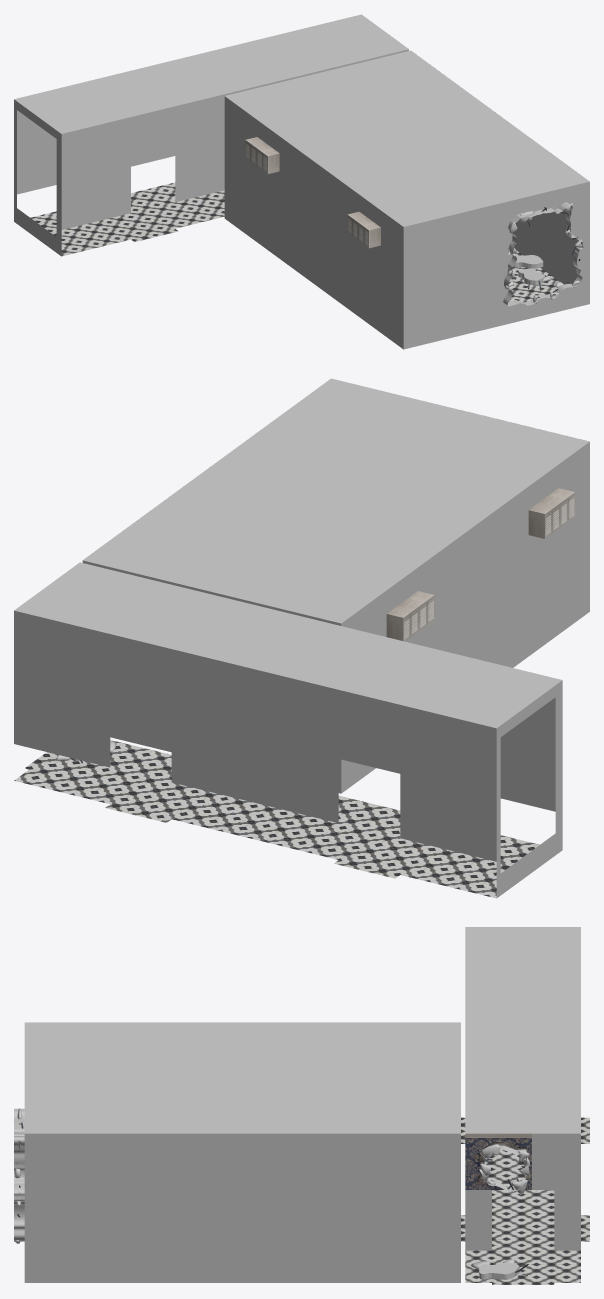
Rendered from ExportLibraryStuff.FBX.
The picture shows the model from 3 angles, top to bottom: view 1: azimuth 30°, elevation 25°; view 2: azimuth 150°, elevation 25°; view 3: azimuth 270°, elevation 25°; orthographic projection. The views are drawn at different scales.
Parts seen in each view (by area): view 1: lib_rooms_002, lib_rooms_001, lib_trash_002, lib_trash_003; view 2: lib_rooms_001, lib_rooms_002; view 3: lib_rooms_002, lib_rooms_001, lib_trash_001, lib_floor_trash_001.
Boxes of the visible parts, x1=… form: lib_rooms_002: x1=224, y1=50, x2=589, y2=349; lib_rooms_001: x1=14, y1=14, x2=408, y2=256; lib_trash_002: x1=508, y1=255, x2=563, y2=290; lib_trash_003: x1=505, y1=203, x2=582, y2=303; lib_rooms_001: x1=14, y1=562, x2=562, y2=898; lib_rooms_002: x1=82, y1=378, x2=589, y2=793; lib_rooms_002: x1=14, y1=1022, x2=460, y2=1282; lib_rooms_001: x1=461, y1=927, x2=589, y2=1284; lib_trash_001: x1=479, y1=1144, x2=530, y2=1194; lib_floor_trash_001: x1=471, y1=1259, x2=528, y2=1279.
Bounding box in the file's own units: 562 × 647 × 186.
